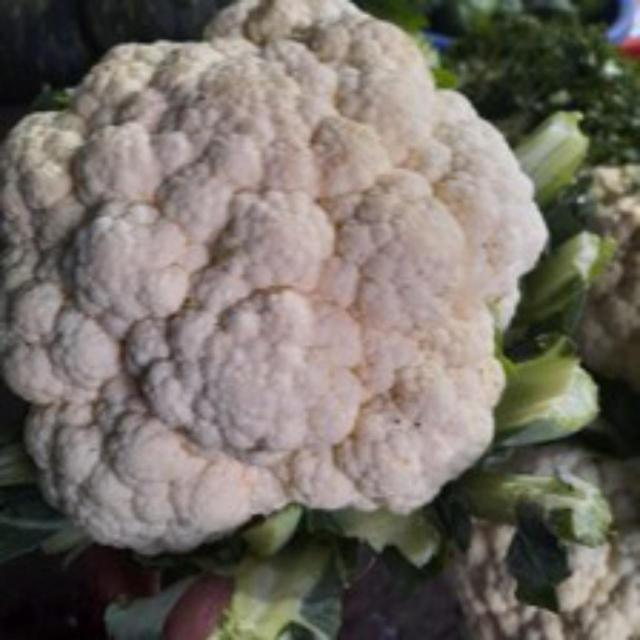cauliflower: (2, 0, 550, 568)
